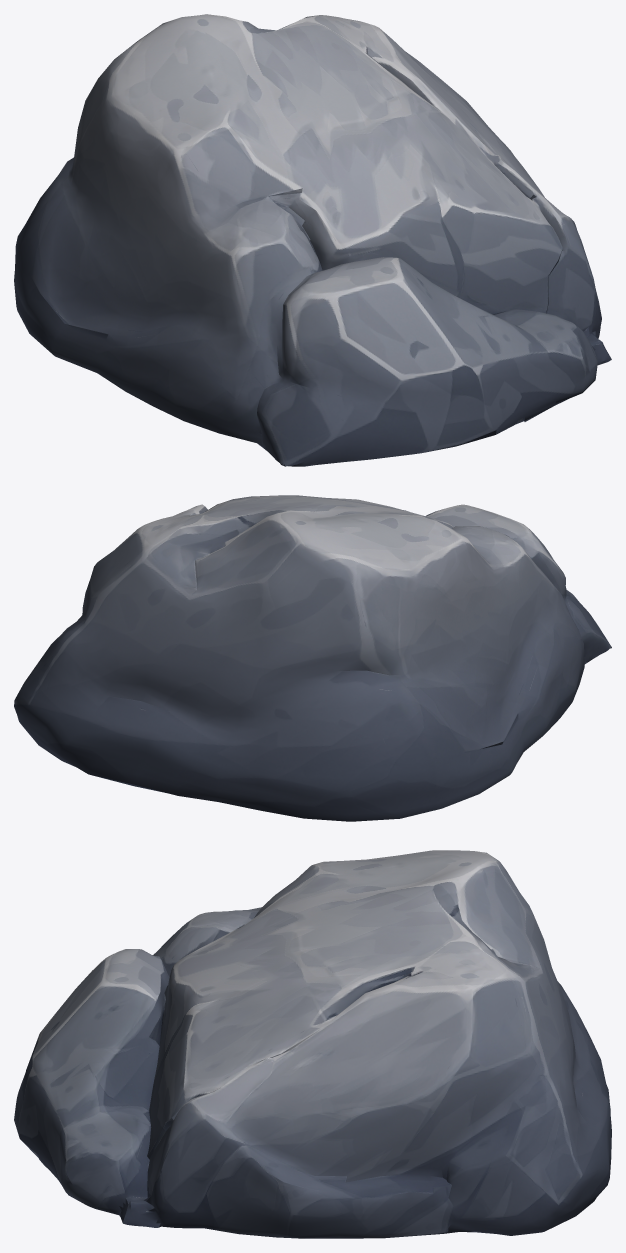
File: roca.glb
3 renders of one model, top to bottom at view 1: azimuth 30°, elevation 25°; view 2: azimuth 150°, elevation 25°; view 3: azimuth 270°, elevation 25°, orthographic. The views are drawn at different scales.
Visible parts, largest first — view 1: Mesh_0; view 2: Mesh_0; view 3: Mesh_0.
Boxes of the visible parts, left/top/right/bottom form: Mesh_0: left=14, top=14, right=611, bottom=466; Mesh_0: left=14, top=495, right=611, bottom=821; Mesh_0: left=14, top=850, right=611, bottom=1238.
Bounding box in the file's own units: 1.66 × 0.8894 × 1.89.
1 material, 1 textured.
